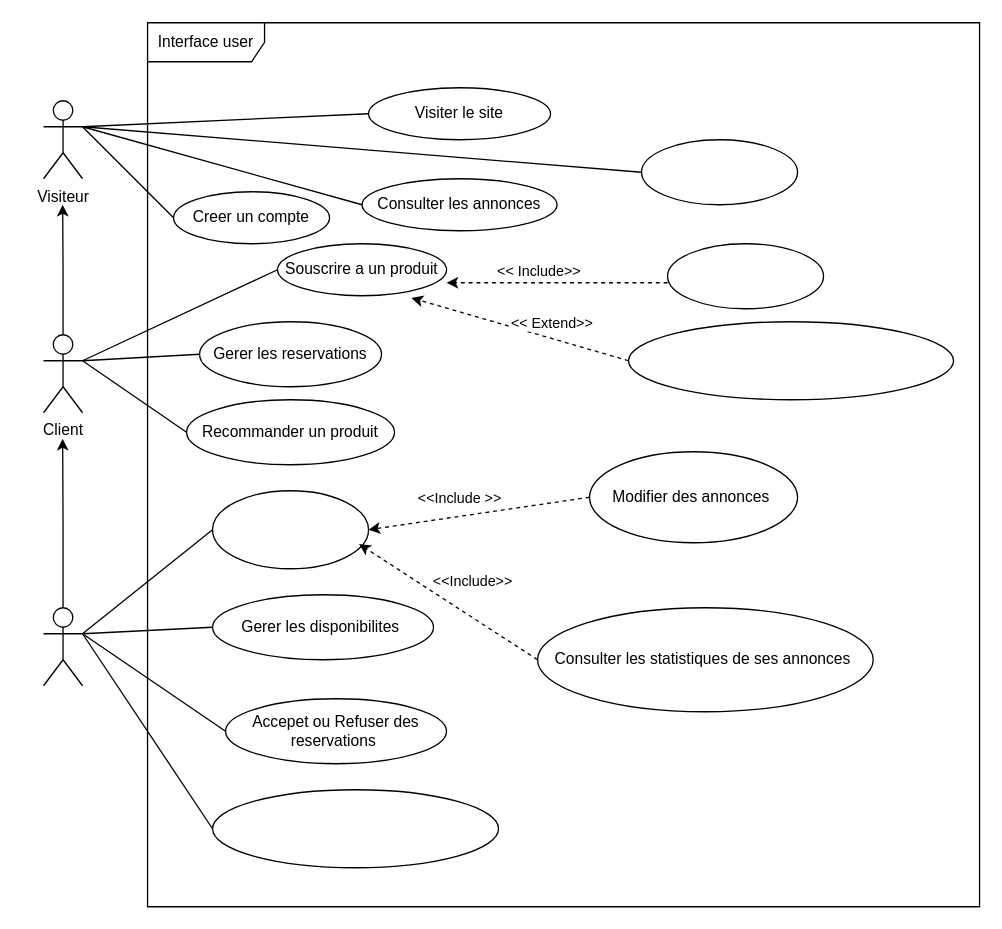
Image size: 1002x929. Some labels were removed from this diagram. The centre of each missing label's shape, as x and y in pixels:
"Commenter un bien apres la location" goes at pixel 790 360.
"Communiquer avec des clients via messagerie interne" goes at pixel 355 828.
"Fliter les biens" goes at pixel 719 171.
"Payer en ligne" goes at pixel 745 275.
"Proprietaire" goes at pixel 62 646.
"Publier des offres" goes at pixel 290 529.
